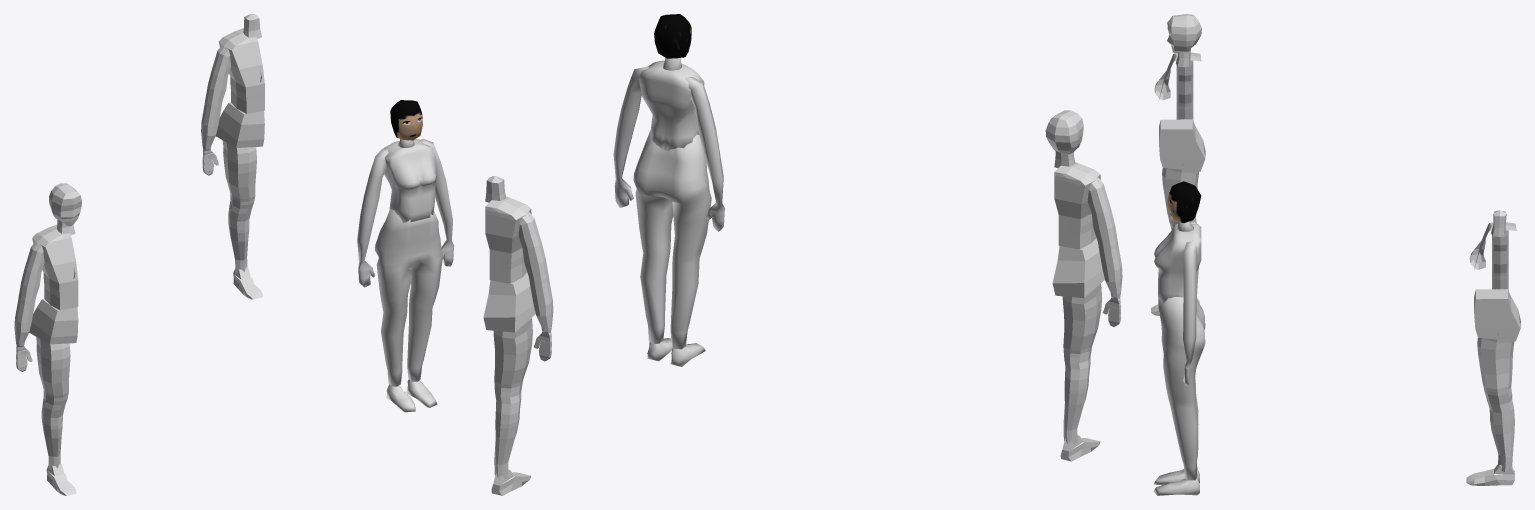
Rendered from GameModel2.glb.
3 views of the same model, side by side, from view 1: azimuth 30°, elevation 25°; view 2: azimuth 150°, elevation 25°; view 3: azimuth 270°, elevation 25° (orthographic). The views are drawn at different scales.
Parts seen in each view (by area): view 1: Waist And Legs.002, Torso.002, Arms, Legs.001, Legs, Torso.001, Torso, Arms.001, Arms.002, Waist, Waist.001, Head (+4 smaller); view 2: Waist And Legs.002, Arms, Legs, Legs.001, Torso.002, Torso, Torso.001, Waist, Waist.001, Arms.001, Arms.002, Head (+2 smaller); view 3: Waist And Legs.002, Legs, Torso.002, Waist.001, Waist, Arms, Head, Head.001, Arms.001, Arms.002, Feet, Legs.001 (+1 smaller).
Part boxes in pixels (<box>): Waist And Legs.002: <box>375,209,442,386</box>; Torso.002: <box>383,139,436,223</box>; Arms: <box>357,139,454,287</box>; Legs.001: <box>36,337,70,469</box>; Legs: <box>222,140,256,273</box>; Torso.001: <box>32,224,78,310</box>; Torso: <box>218,28,264,113</box>; Arms.001: <box>14,242,44,347</box>; Arms.002: <box>201,45,230,150</box>; Waist: <box>216,102,264,147</box>; Waist.001: <box>29,299,78,344</box>; Head: <box>390,100,422,140</box>; Waist And Legs.002: <box>633,130,711,349</box>; Arms: <box>613,66,725,231</box>; Legs: <box>493,318,532,478</box>; Legs.001: <box>1062,283,1102,444</box>; Torso.002: <box>639,60,704,151</box>; Torso: <box>485,196,531,283</box>; Torso.001: <box>1054,162,1100,249</box>; Waist: <box>483,272,535,332</box>; Waist.001: <box>1052,238,1104,297</box>; Arms.001: <box>1087,177,1122,298</box>; Arms.002: <box>518,212,553,333</box>; Head: <box>654,14,691,58</box>; Waist And Legs.002: <box>1158,297,1205,480</box>; Legs: <box>1477,333,1514,471</box>; Torso.002: <box>1154,224,1201,303</box>; Waist.001: <box>1159,119,1205,171</box>; Waist: <box>1474,289,1520,341</box>; Arms: <box>1183,221,1197,385</box>; Head: <box>1166,181,1201,223</box>; Head.001: <box>1167,14,1201,52</box>; Arms.001: <box>1176,60,1193,120</box>; Arms.002: <box>1492,229,1508,290</box>; Feet: <box>1153,469,1199,495</box>; Legs.001: <box>1162,163,1199,297</box>.
Size of the model in its own units: 5.92 by 3.85 by 4.24.
1 material, 1 textured.
